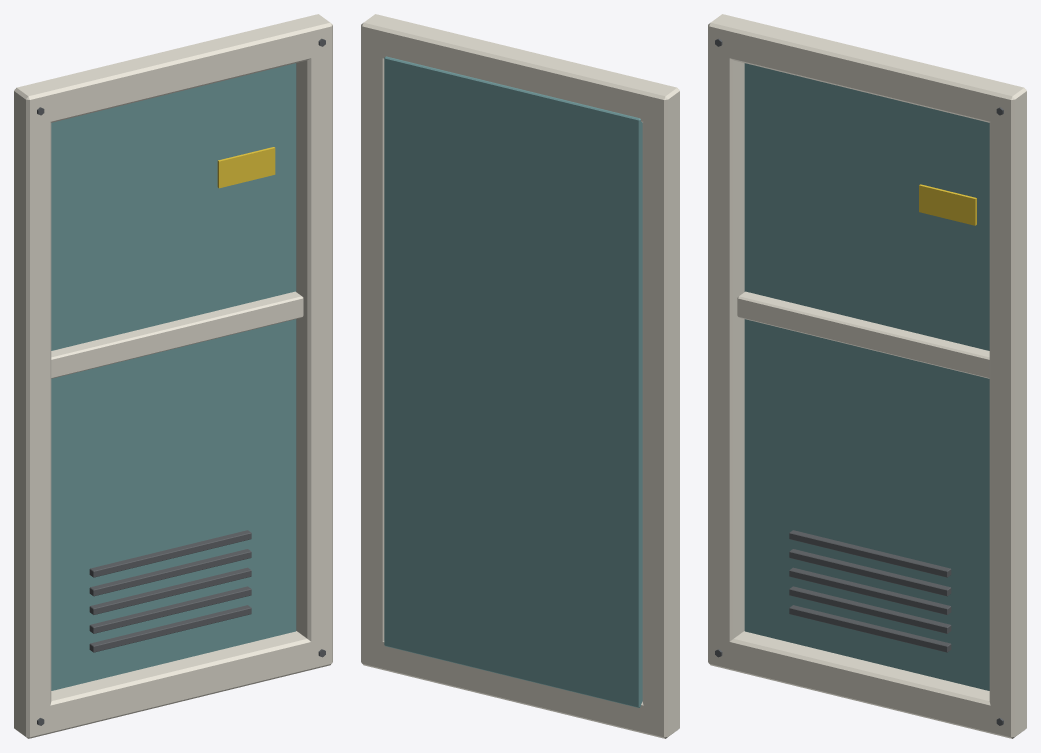
The model's file is wall_panel_recessed.glb.
3 renders of one model, left to right at view 1: azimuth 30°, elevation 25°; view 2: azimuth 150°, elevation 25°; view 3: azimuth 330°, elevation 25°, orthographic.
Visible parts, largest first — view 1: wall_panel_recessed; view 2: wall_panel_recessed; view 3: wall_panel_recessed.
Boxes of the visible parts, box(x1,y1,x2,y2) form: wall_panel_recessed: box(14, 14, 332, 738); wall_panel_recessed: box(361, 14, 679, 738); wall_panel_recessed: box(708, 14, 1026, 738).
Size of the model in its own units: 1.2 by 2.4 by 0.118.
